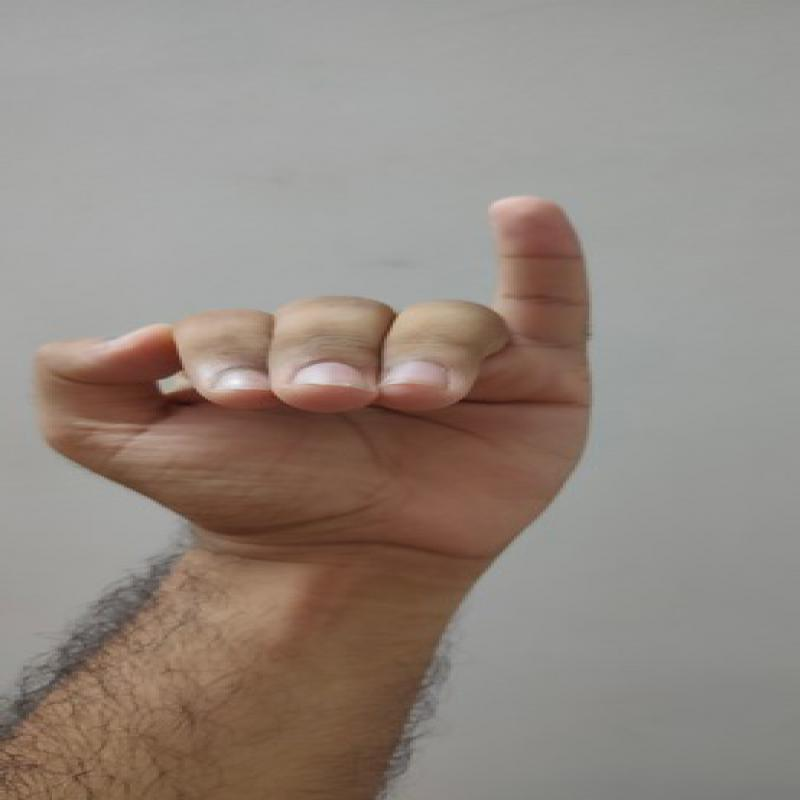Kartharee Mukham: (21, 182, 617, 566)
